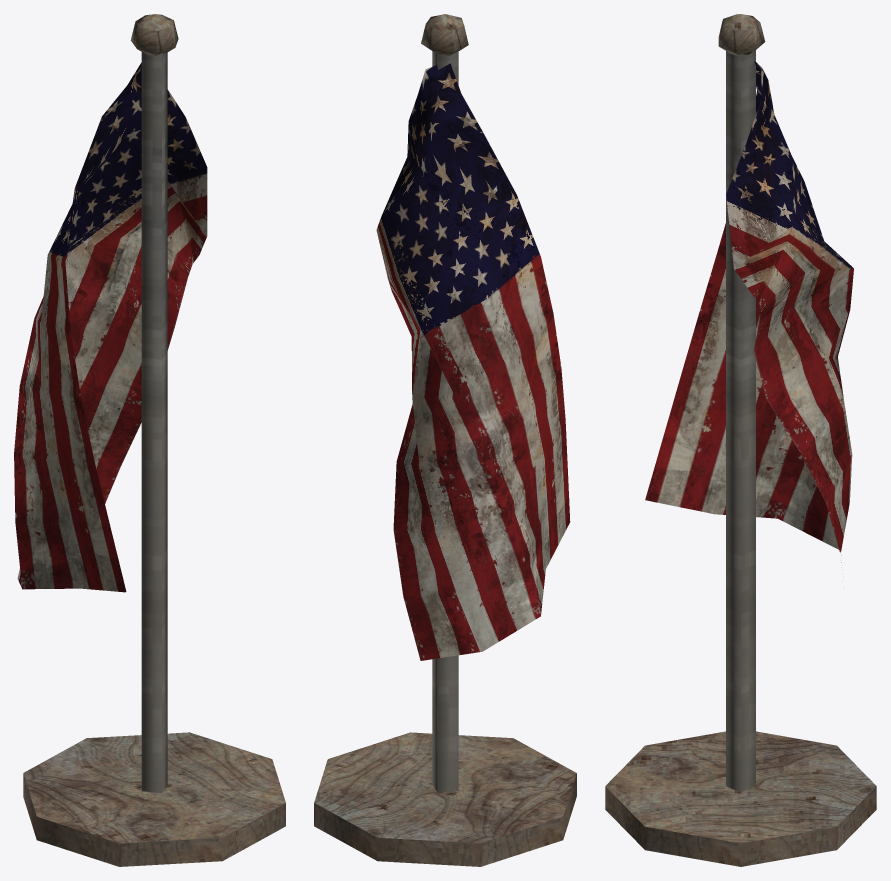
The model's file is _Flag_1.FBX.
3 renders of one model, left to right at view 1: azimuth 30°, elevation 25°; view 2: azimuth 150°, elevation 25°; view 3: azimuth 270°, elevation 25°, orthographic.
Visible parts, largest first — view 1: _Flag_1; view 2: _Flag_1; view 3: _Flag_1.
Boxes of the visible parts, x1,y1,x2,y2 form: _Flag_1: (14, 14, 285, 866); _Flag_1: (314, 14, 576, 866); _Flag_1: (605, 14, 876, 866).
Bounding box in the file's own units: 32.56 × 105 × 32.56.
Materials: 3 (3 with a texture image).
